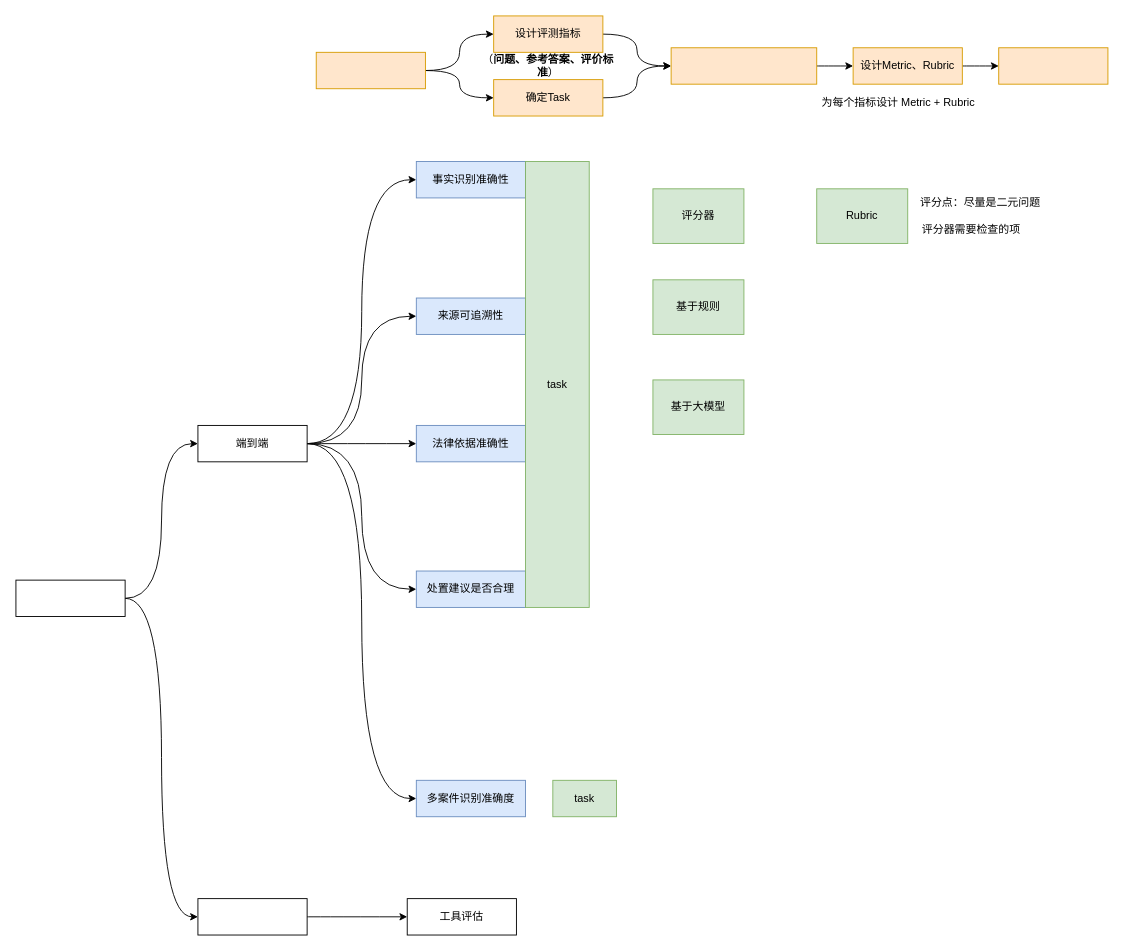
Some shapes in this 1124 by 951 pixel diagram are drawn without their labels. The box of each missing label's shape, as (x1, y1, x2, y2) in pixels:
明确业务目标: (315, 51, 425, 89)
每个 Task 挂载多个指标: (670, 47, 817, 84)
离线评估: (15, 579, 125, 617)
过程评估: (197, 898, 307, 935)
选择评分器: (998, 47, 1108, 84)
